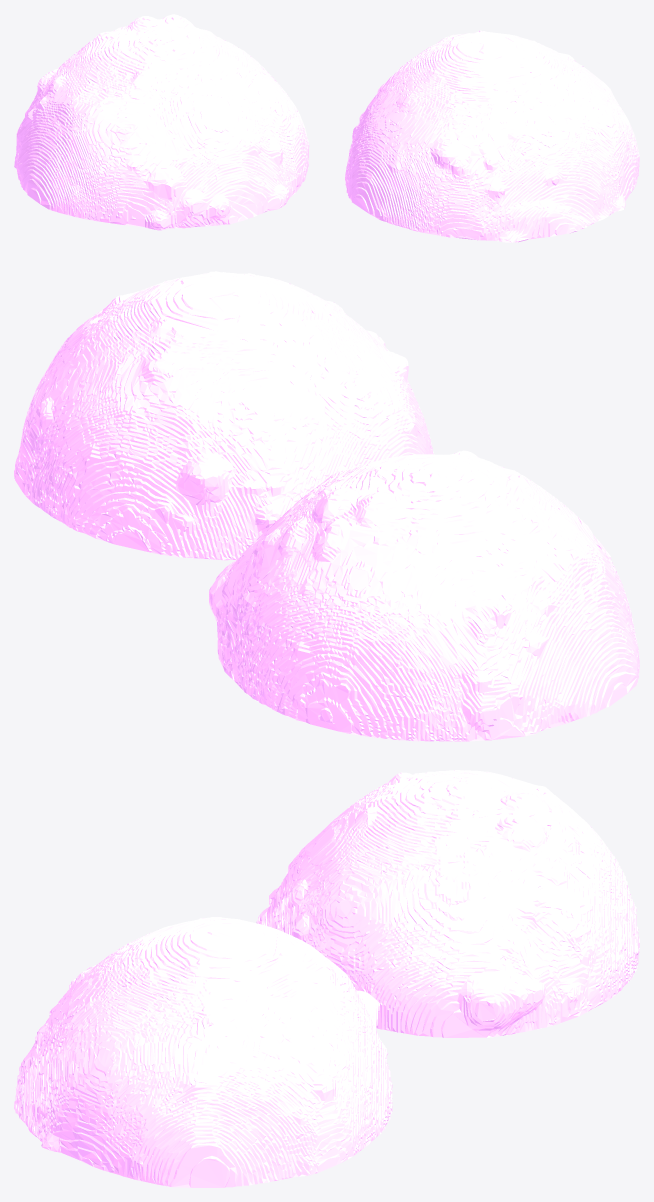
File: snr-tycho.glb
The picture shows the model from 3 angles, top to bottom: view 1: azimuth 30°, elevation 25°; view 2: azimuth 150°, elevation 25°; view 3: azimuth 270°, elevation 25°; orthographic projection. The views are drawn at different scales.
Parts seen in each view (by area): view 1: Tycho Supernova Remnant (right outer).stl; view 2: Tycho Supernova Remnant (right outer).stl; view 3: Tycho Supernova Remnant (right outer).stl.
Part boxes in pixels (<box>): Tycho Supernova Remnant (right outer).stl: <box>14,14,639,242</box>; Tycho Supernova Remnant (right outer).stl: <box>14,271,639,741</box>; Tycho Supernova Remnant (right outer).stl: <box>14,770,639,1187</box>.
Size of the model in its own units: 169 by 41.94 by 142.
